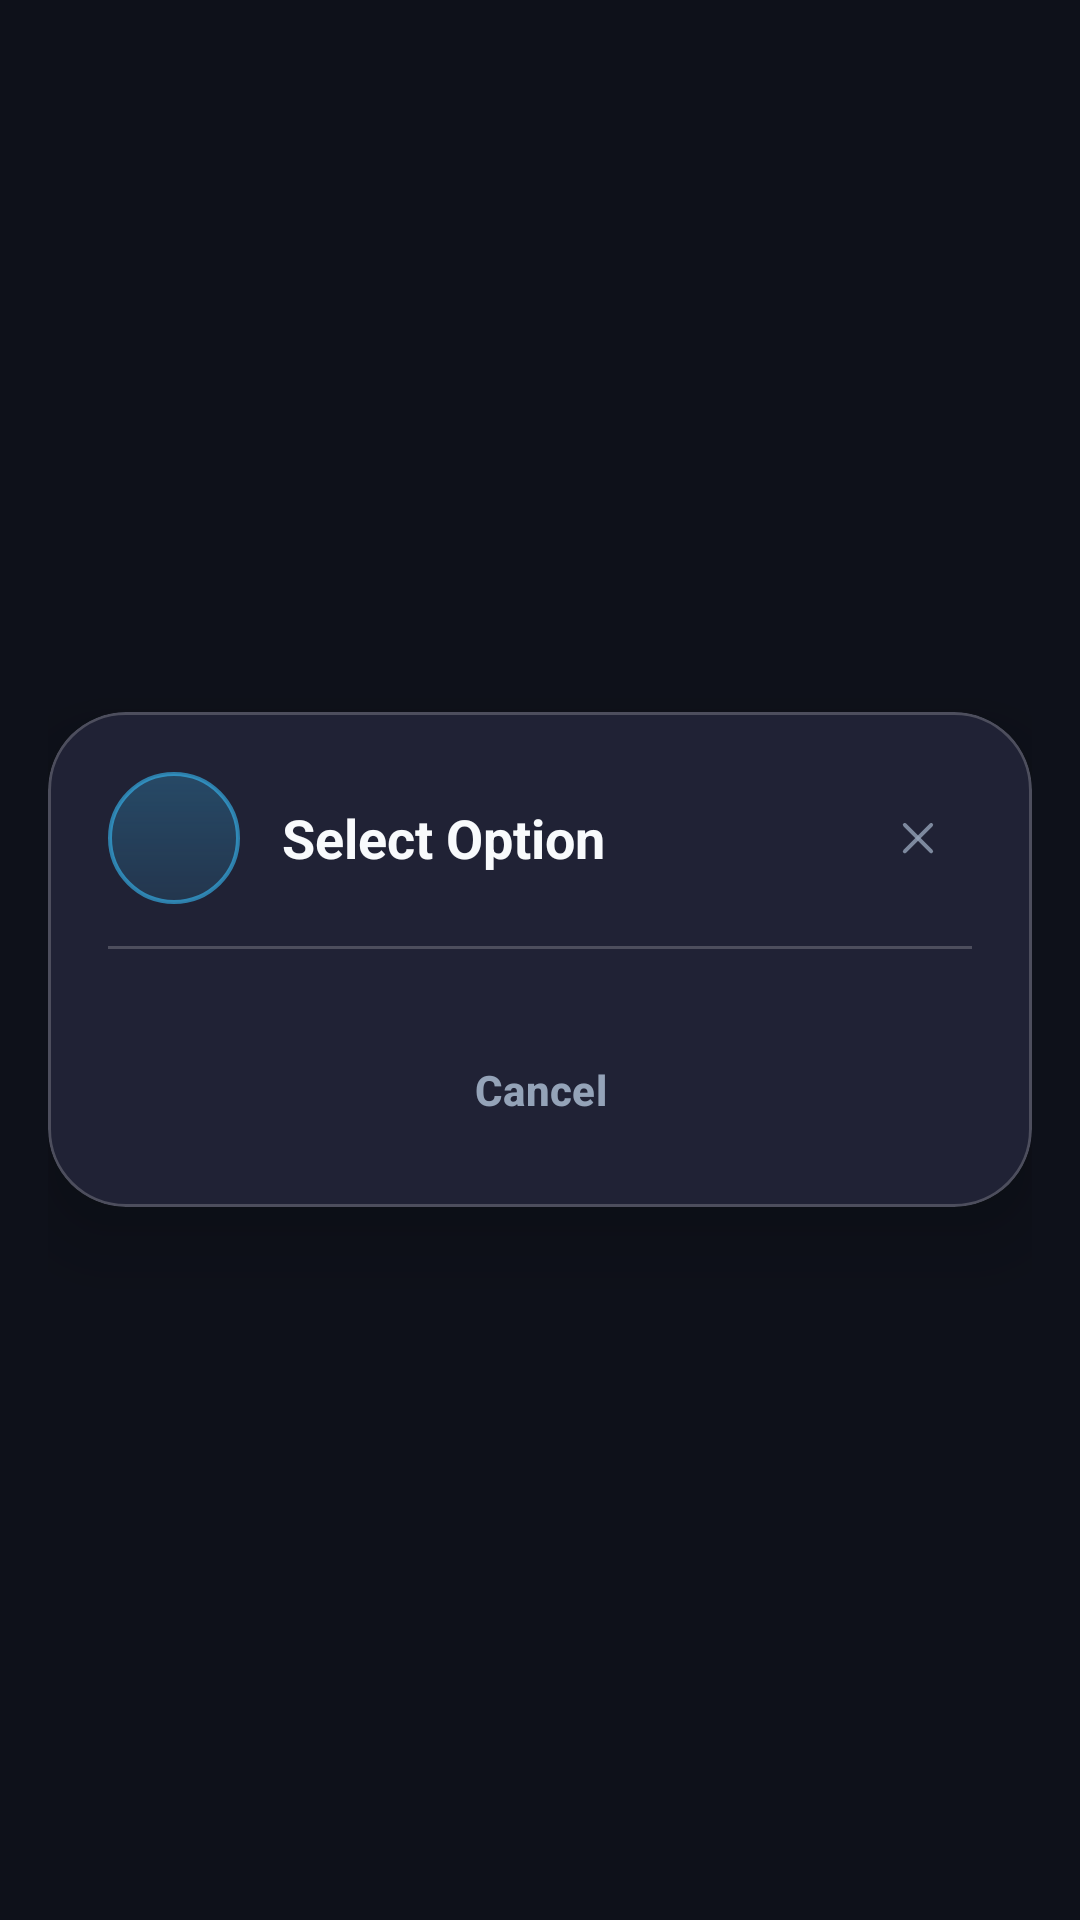

Named icons in this screenshot (1080x1920) and their bounding boxes, (x1, y1, x2, y2):
Close: (903, 823, 933, 854)
